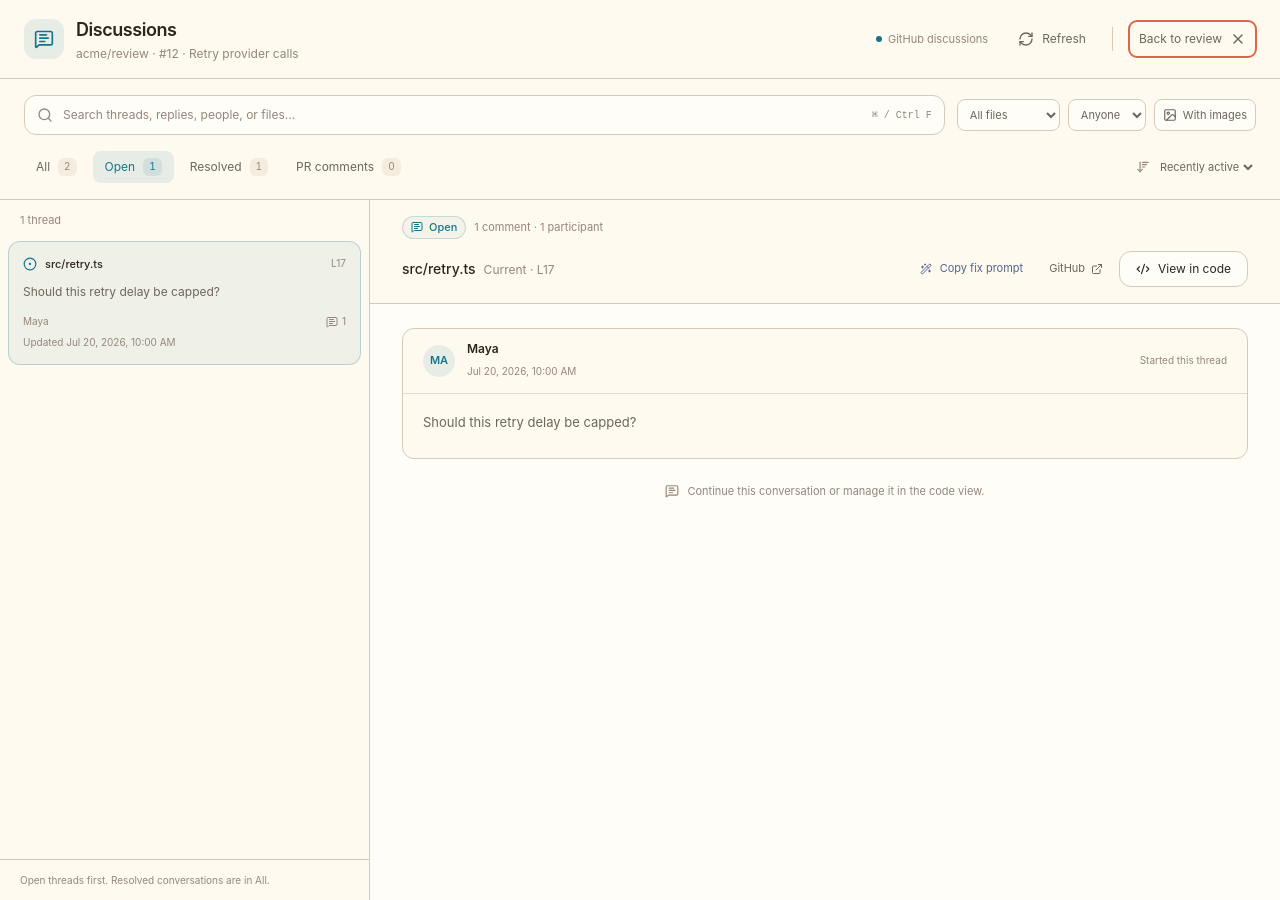
ReviewDiscussionsPanel › searches every reply and includes resolved threads from the default scope
This screenshot has width=1280, height=900.
In the search field named "Search discussions": [462, 115] box x1=63 y1=107 x2=862 y2=123, type "invalidation"
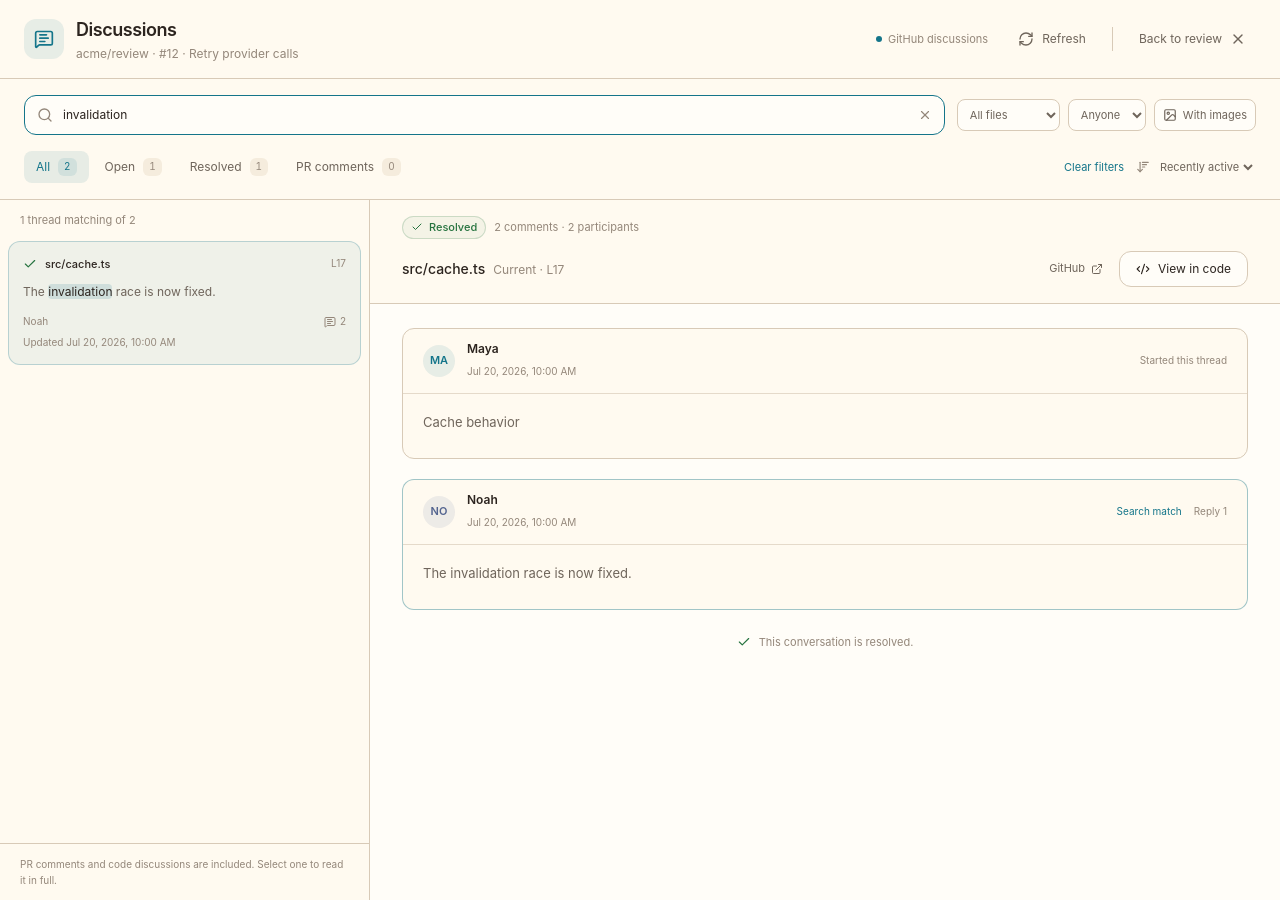
Now the text "Cache behavior" is shown, box x1=423 y1=414 x2=520 y2=430
Now the text "The invalidation race is now fixed." is shown, box x1=423 y1=564 x2=632 y2=580
Now the text "Search match" is shown, box x1=1117 y1=504 x2=1182 y2=519
Click the tab "Open 1": [133, 167] box x1=93 y1=151 x2=174 y2=183
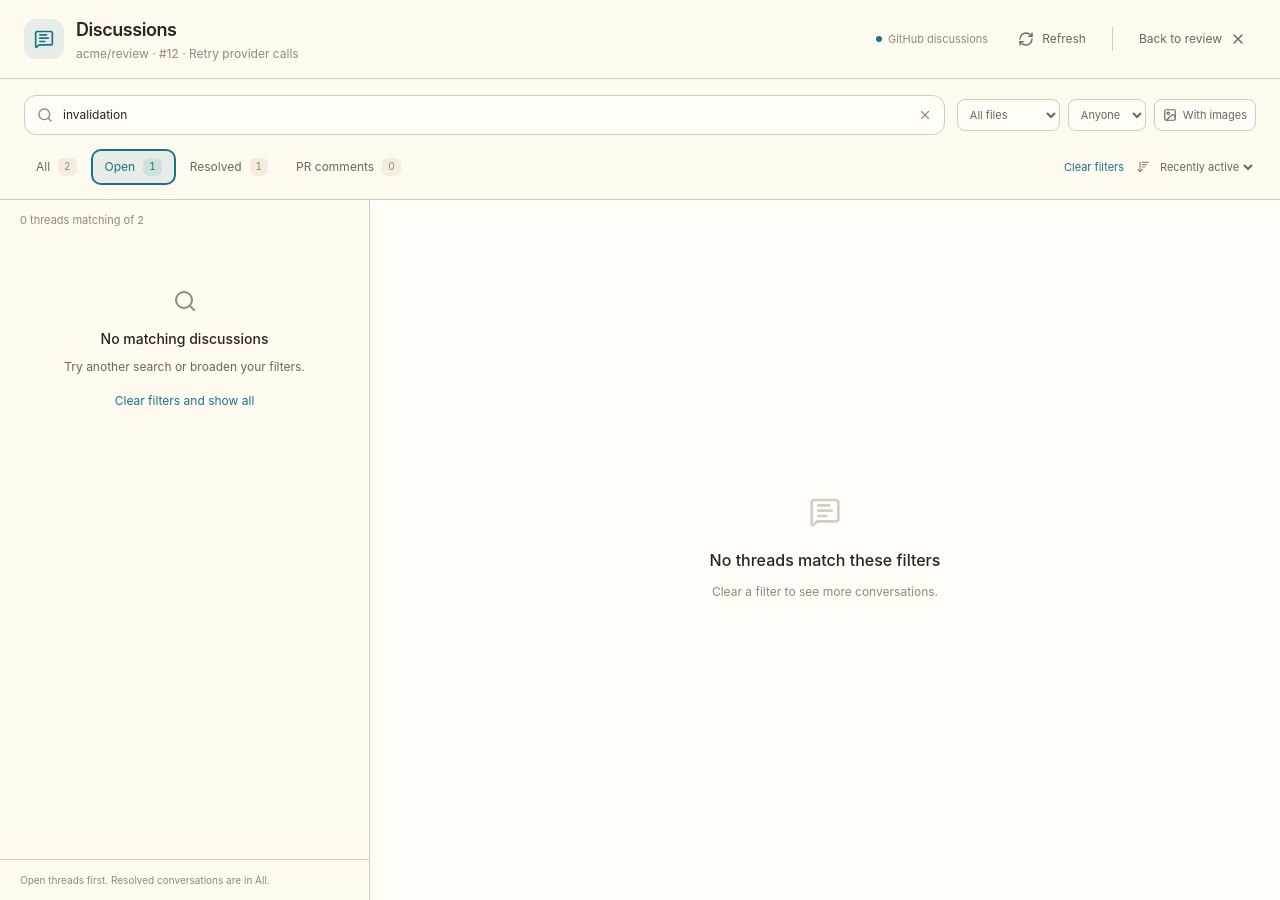
Now the text "No matching discussions" is shown, box x1=100 y1=330 x2=268 y2=346
Click the button "Clear filters and show all": [184, 400] box x1=115 y1=392 x2=254 y2=408
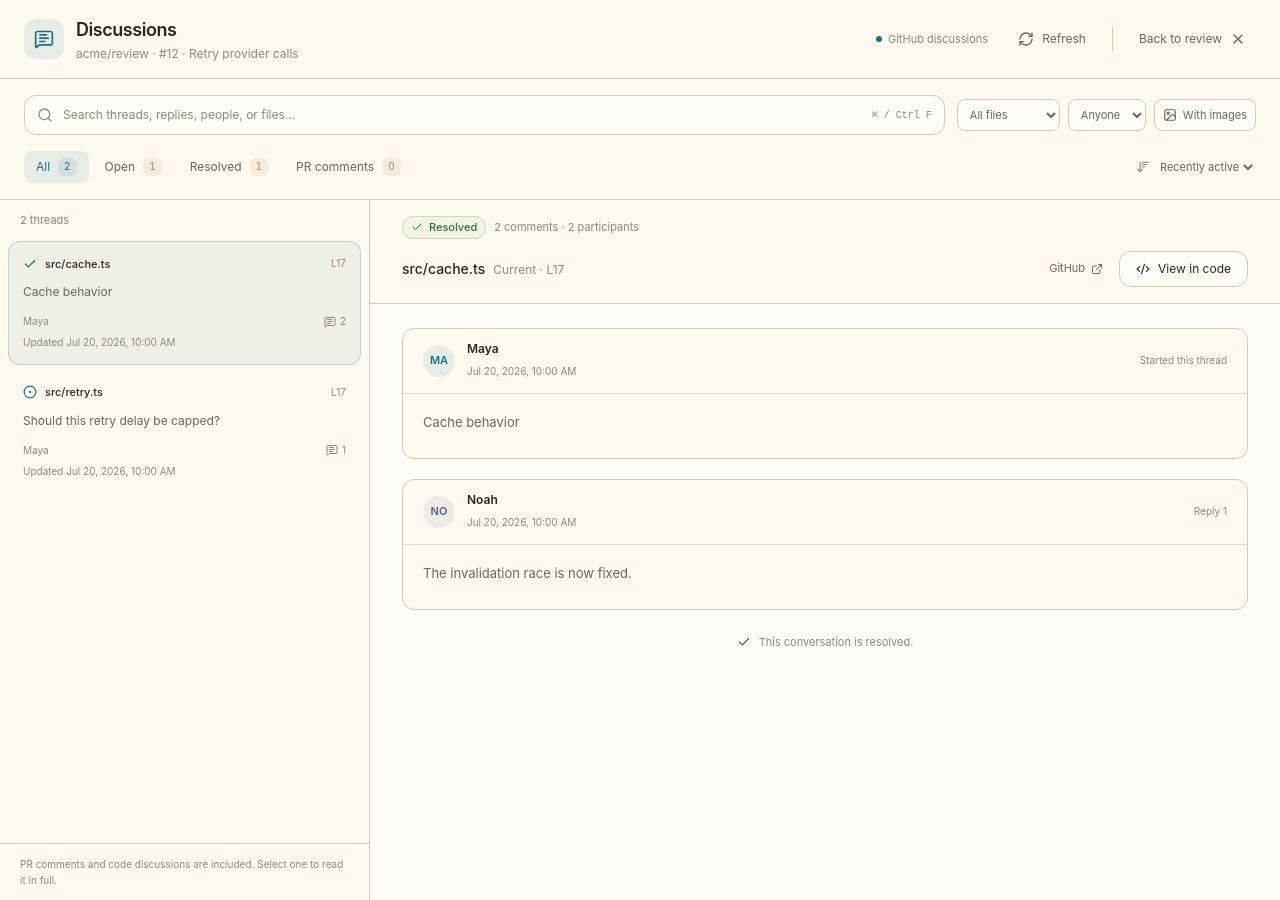
Now the search field is empty, box x1=63 y1=107 x2=862 y2=123
Now the message reads "2 threads", box x1=20 y1=212 x2=69 y2=228
